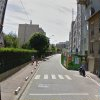crosswalk: (32, 73, 72, 80)
